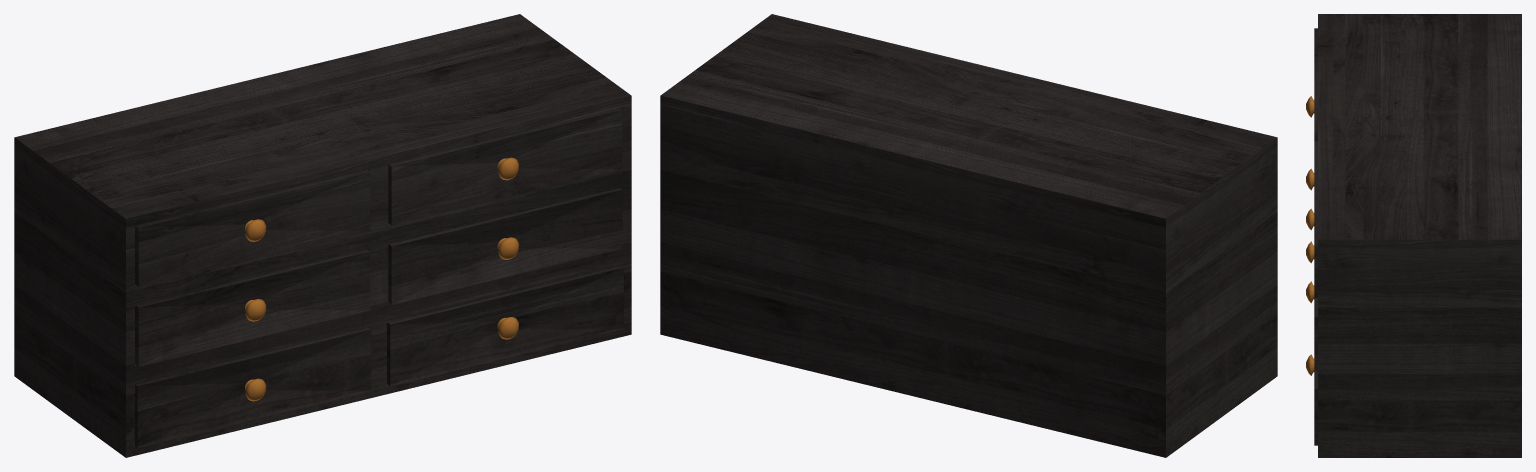
Rendered from dresser.fbx.
3 renders of one model, left to right at view 1: azimuth 30°, elevation 25°; view 2: azimuth 150°, elevation 25°; view 3: azimuth 270°, elevation 25°, orthographic. The views are drawn at different scales.
Visible parts, largest first — view 1: Cube, Cube.001, Cube.006, Cube.002, Cube.005, Cube.003, Cube.004; view 2: Cube; view 3: Cube, Cube.003, Cube.004, Cube.001, Cube.002.
Part boxes in pixels (x1,y1,x2,y2): Cube: [14, 14, 631, 457]; Cube.001: [387, 266, 623, 386]; Cube.006: [135, 327, 371, 447]; Cube.002: [388, 188, 622, 304]; Cube.005: [135, 249, 369, 366]; Cube.003: [388, 108, 622, 225]; Cube.004: [135, 170, 369, 286]; Cube: [660, 14, 1277, 457]; Cube: [1318, 14, 1521, 457]; Cube.003: [1306, 141, 1317, 297]; Cube.004: [1306, 28, 1317, 140]; Cube.001: [1306, 354, 1317, 445]; Cube.002: [1306, 281, 1317, 370].
Bounding box in the file's own units: 1064 × 481 × 430.
